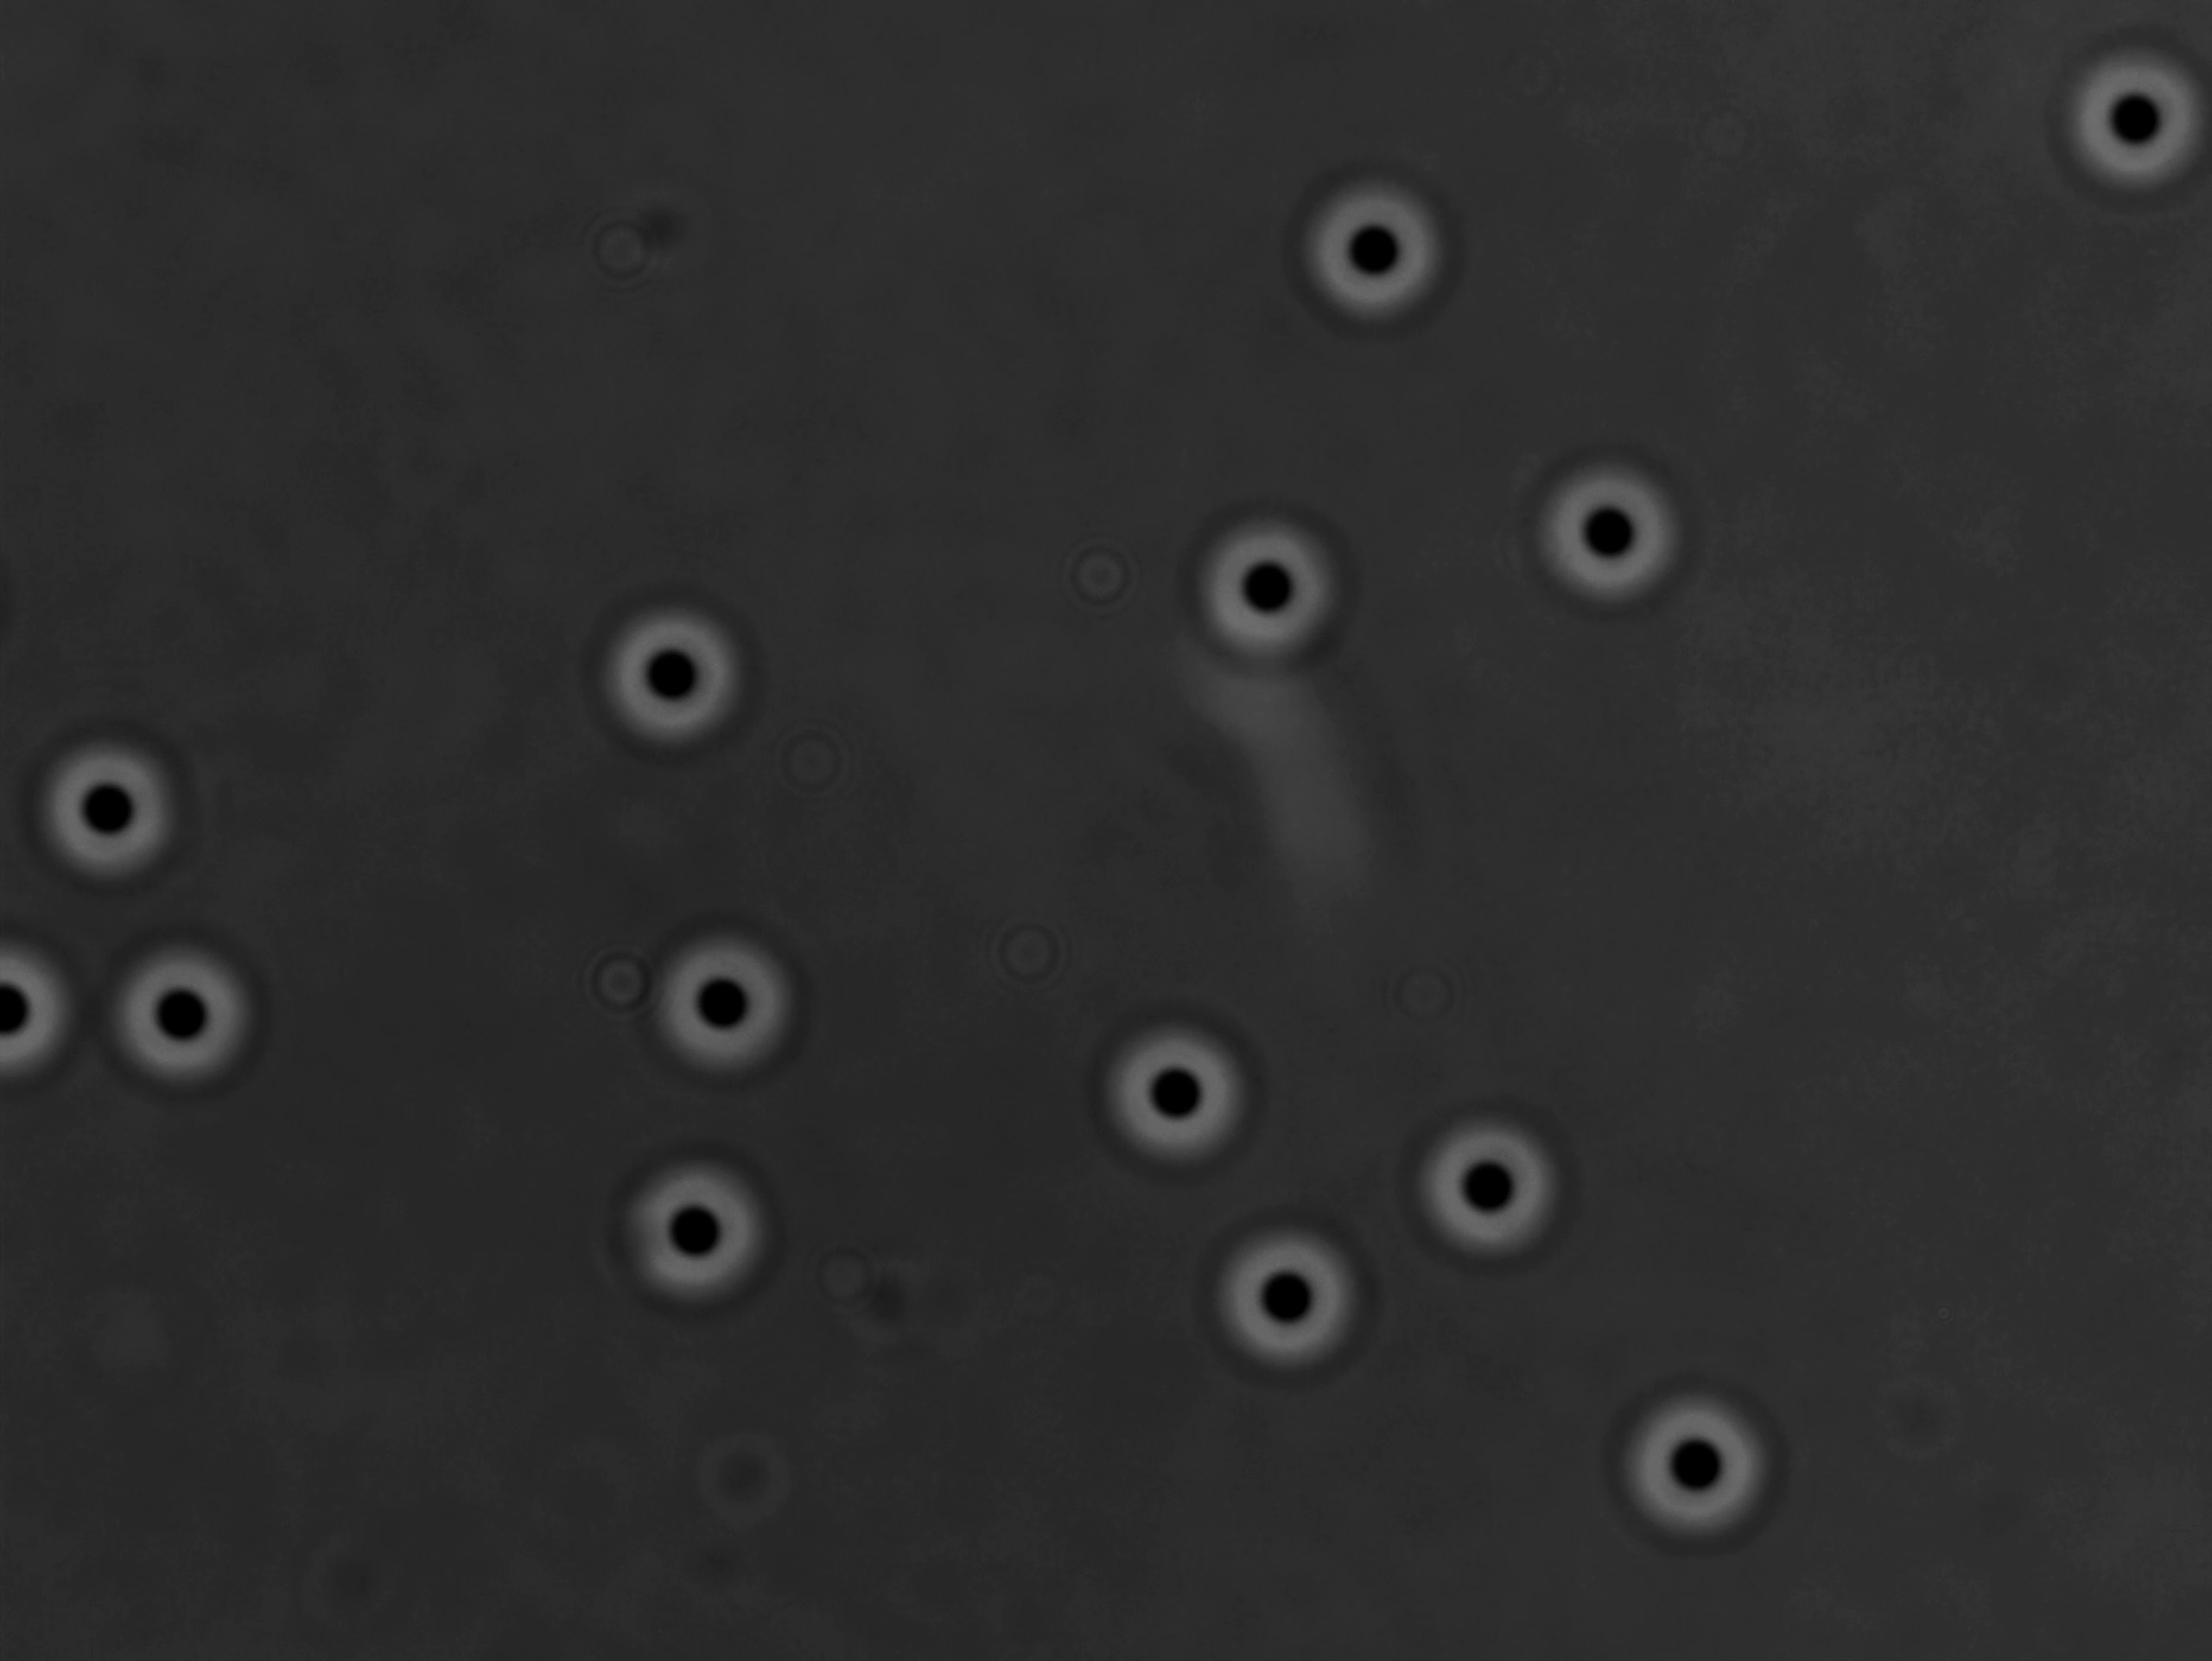depth:-40: (1185, 497, 1361, 673), (593, 590, 769, 759), (1277, 164, 1451, 333), (640, 923, 816, 1089), (1607, 1377, 1783, 1542), (1094, 1010, 1265, 1179), (99, 932, 276, 1096), (611, 1145, 780, 1312), (1408, 1101, 1580, 1265), (1204, 1209, 1371, 1377), (2043, 45, 2210, 213), (1521, 448, 1687, 609), (26, 726, 188, 874)
